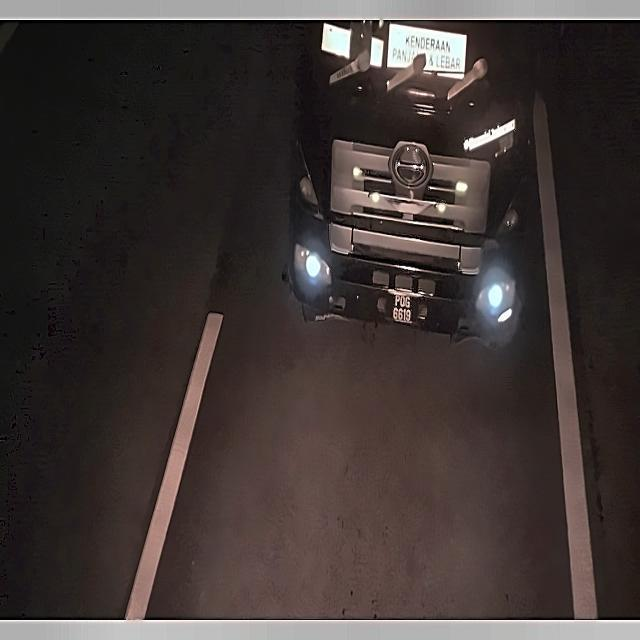car: (386, 289, 418, 328)
